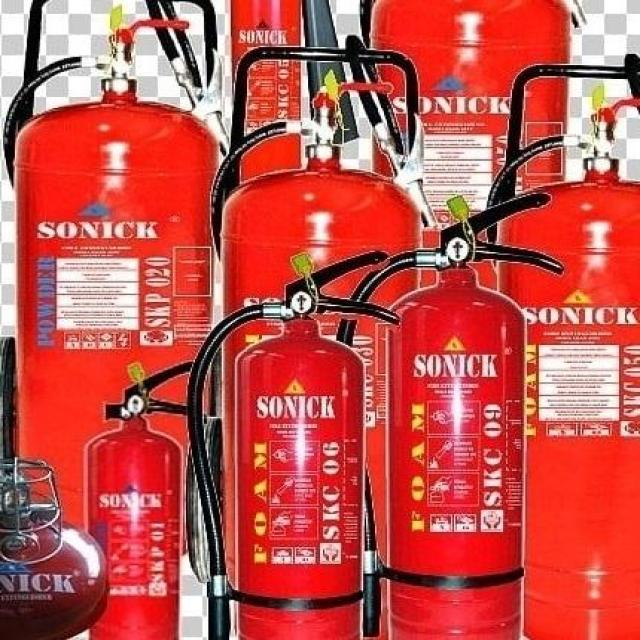fire_extinguisher: (357, 0, 581, 616), (0, 6, 234, 584), (329, 182, 568, 639), (468, 87, 638, 639), (180, 244, 406, 638), (218, 0, 355, 477), (74, 352, 213, 640)
